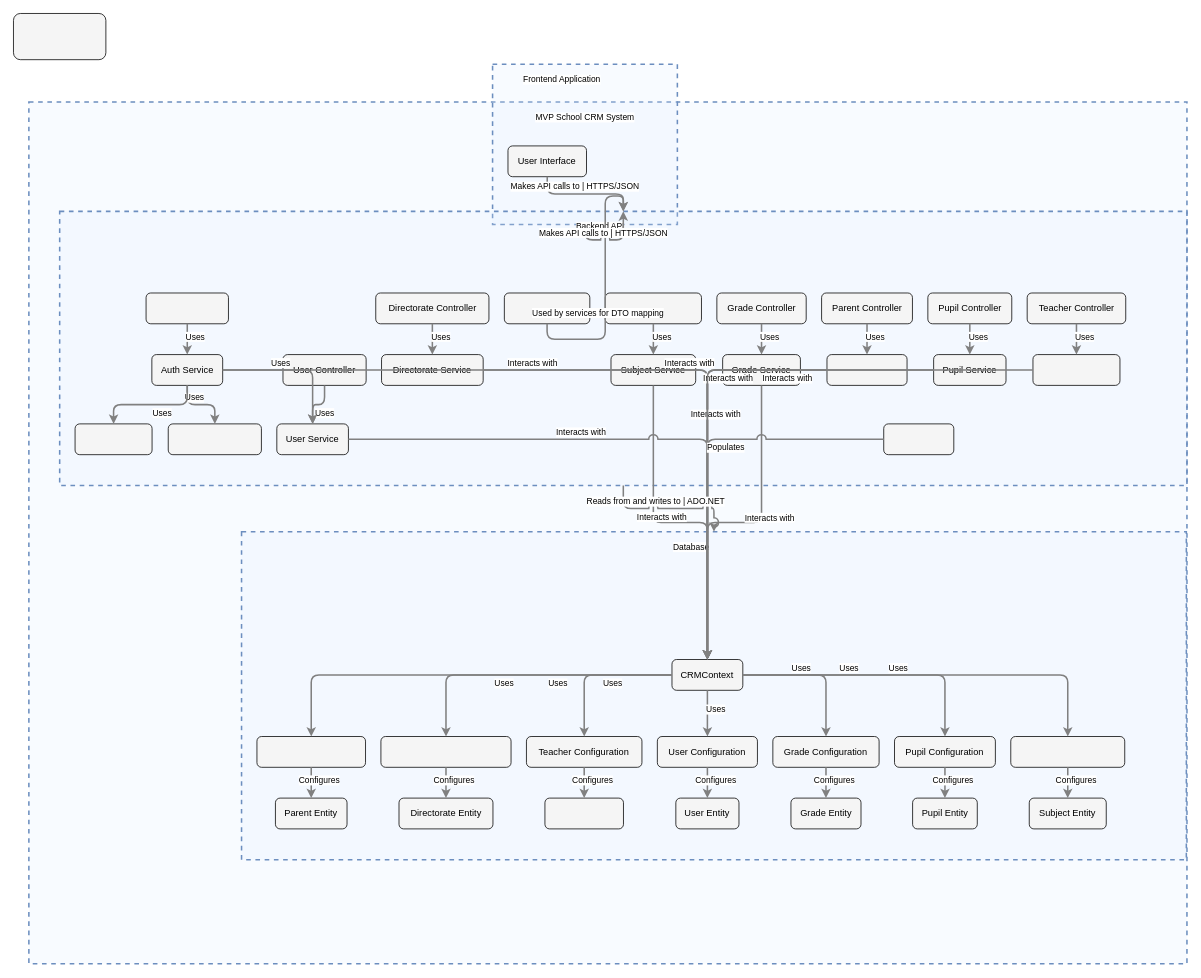
The diagram is 1201 pixels wide and 978 high, and some of its shapes have lost their labels. The shapes that lost their labels are listed below. From the top down, each one's centre as x and y in pixels, then its label:
the point at 186,308: Auth Controller
the point at 547,308: Mapping Profile
the point at 652,308: Subject Controller
the point at 866,369: Parent Service
the point at 1076,369: Teacher Service
the point at 113,439: Token Service
the point at 214,439: Password Hasher
the point at 918,439: Data Seeder
the point at 311,751: Parent Configuration
the point at 445,751: Directorate Configuration
the point at 1067,751: Subject Configuration
the point at 583,813: Teacher Entity
